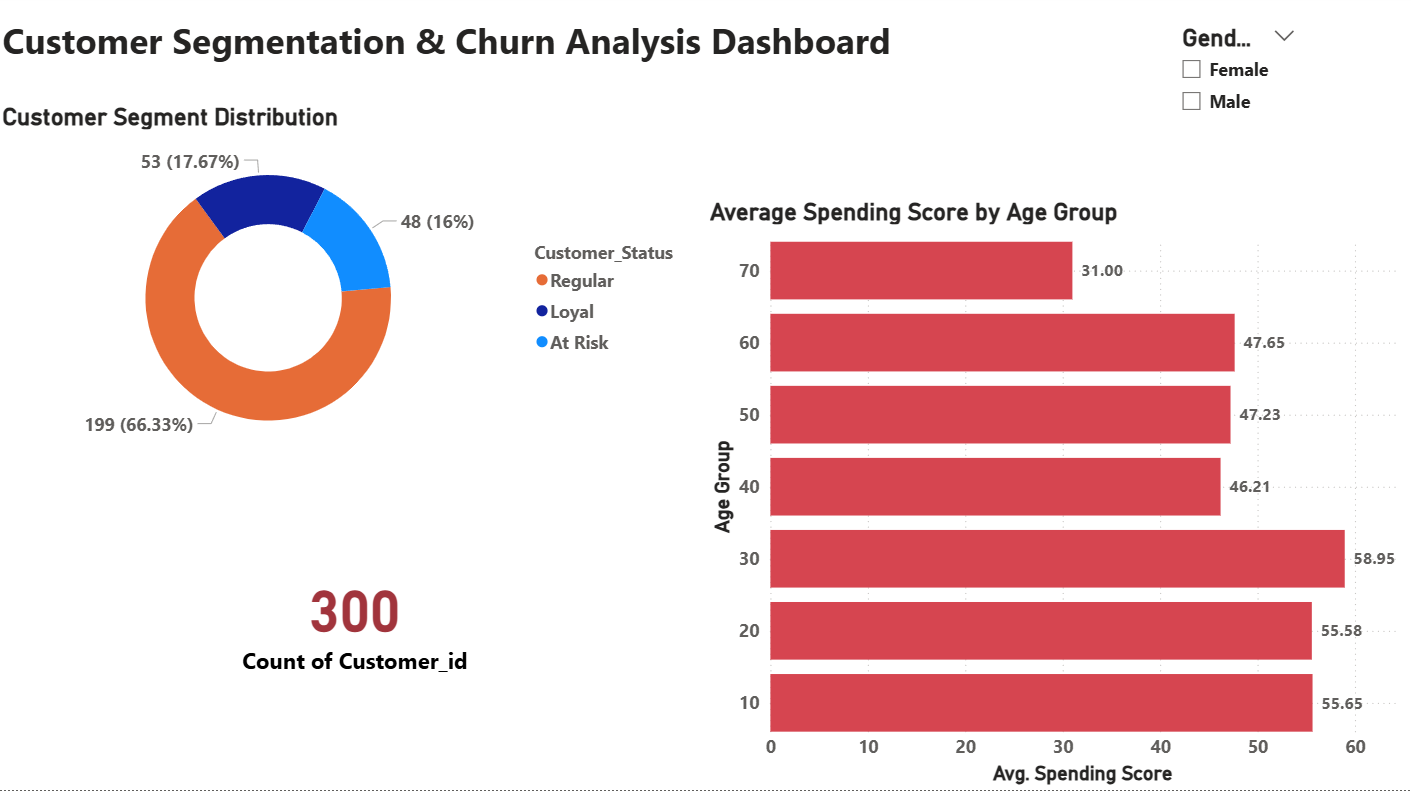

This screenshot's page, from the dashboard's own definition file:
{"tool":"powerbi","page":{"name":"Page 1","canvas":[1280,720],"ordinal":0},"visuals":[{"type":"donutChart","title":"Customer Segment Distribution","fields":{"Category":["Cleaned_Customer_Churn_Data siddu.Customer_Status"],"Y":["CountNonNull(Cleaned_Customer_Churn_Data siddu.Customer_id)"]},"box":[0,98.4,640,329.3],"z":0},{"type":"card","fields":{"Values":["Count(Cleaned_Customer_Churn_Data siddu.Customer_id)"]},"box":[9.6,410.3,629.8,310.1],"z":1000},{"type":"slicer","fields":{"Values":["Cleaned_Customer_Churn_Data siddu.Gender"]},"box":[1059.1,22.8,126.9,98.4],"z":2000},{"type":"textbox","box":[0,14.3,825.3,54.2],"z":3000},{"type":"clusteredBarChart","title":"Average Spending Score by Age Group","fields":{"Category":["Cleaned_Customer_Churn_Data siddu.Age (bins)"],"Y":["Avg(Cleaned_Customer_Churn_Data siddu.Spending_score)"]},"box":[640,183.9,640,535.9],"z":4000}]}

Visuals, with their boxes in screenshot pixels (x1, y1, x2, y2), scaled from the page's 1280x720 canvas onto the 1411x791 screenshot:
"Customer Segment Distribution" donutChart: 0,108,706,470
card - Count(Cleaned_Customer_Churn_Data siddu.Customer_id): 11,451,705,790
slicer - Cleaned_Customer_Churn_Data siddu.Gender: 1167,25,1307,133
textbox: 0,16,910,75
"Average Spending Score by Age Group" clusteredBarChart: 706,202,1410,790
